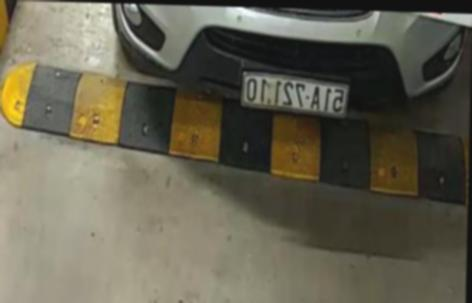License_Plate: (238, 72, 357, 118)
